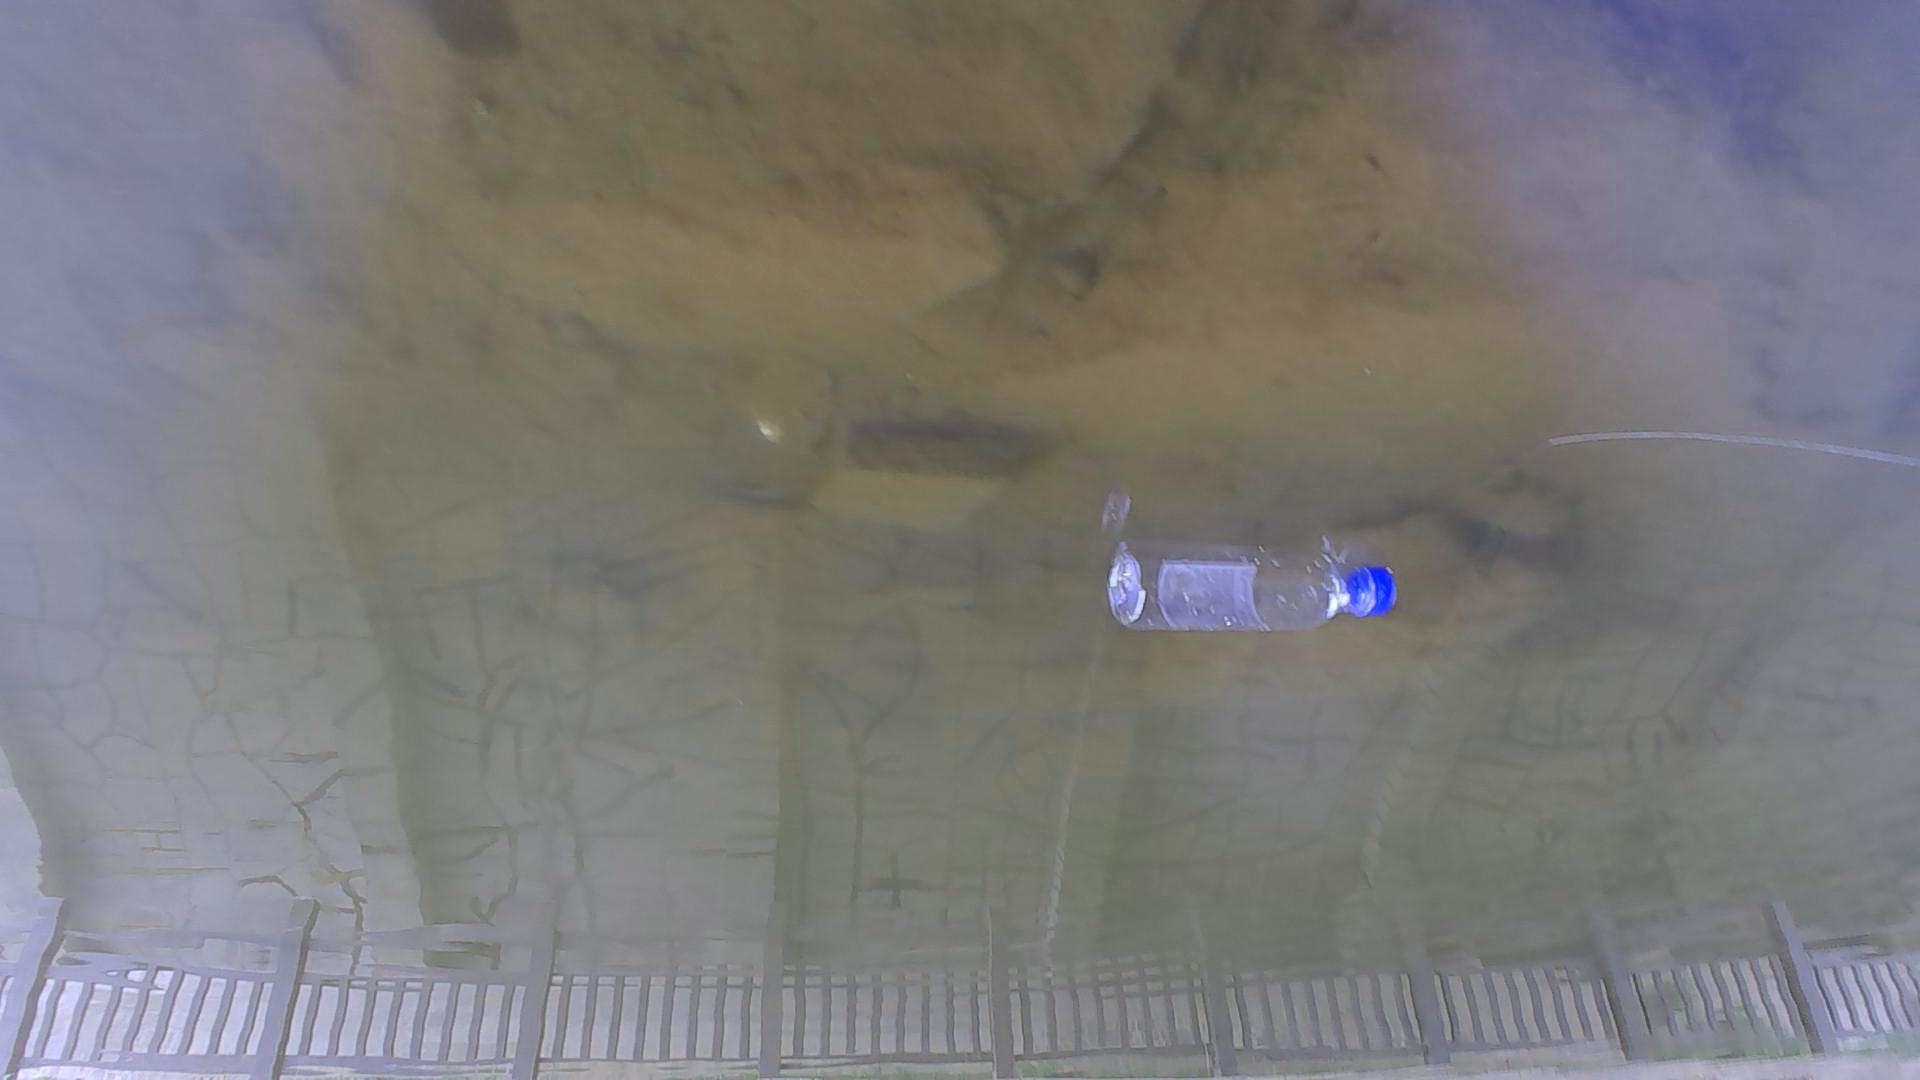Plastic: (1106, 547, 1408, 641)
